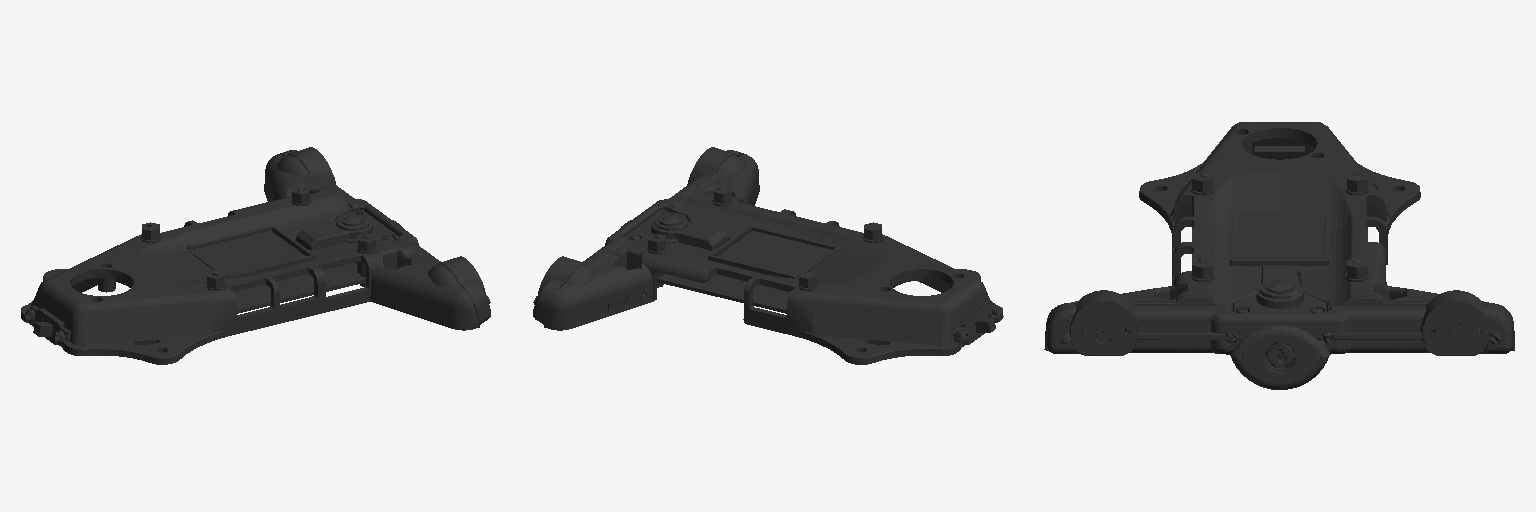
URDF robot description (sdf_pro):
<?xml version="1.0"?>
<!--
/****************************************************************************
 *   Copyright (c) 2018 [author]. All rights reserved.
 *
 * Redistribution and use in source and binary forms, with or without
 * modification, are permitted provided that the following conditions
 * are met:
 *
 * 1. Redistributions of source code must retain the above copyright
 *    notice, this list of conditions and the following disclaimer.
 * 2. Redistributions in binary form must reproduce the above copyright
 *    notice, this list of conditions and the following disclaimer in
 *    the documentation and/or other materials provided with the
 *    distribution.
 * 3. Neither the name ATLFlight nor the names of its contributors may be
 *    used to endorse or promote products derived from this software
 *    without specific prior written permission.
 *
 * NO EXPRESS OR IMPLIED LICENSES TO ANY PARTY'S PATENT RIGHTS ARE GRANTED BY THIS LICENSE.
 * THIS SOFTWARE IS PROVIDED BY THE COPYRIGHT [author]
 * "AS IS" AND ANY EXPRESS OR IMPLIED WARRANTIES, INCLUDING, BUT NOT
 * LIMITED TO, THE IMPLIED WARRANTIES OF MERCHANTABILITY AND FITNESS
 * FOR A PARTICULAR PURPOSE ARE DISCLAIMED. IN NO EVENT SHALL THE
 * COPYRIGHT [author] LIABLE FOR ANY DIRECT, INDIRECT,
 * INCIDENTAL, SPECIAL, EXEMPLARY, OR CONSEQUENTIAL DAMAGES (INCLUDING,
 * BUT NOT LIMITED TO, PROCUREMENT OF SUBSTITUTE GOODS OR SERVICES; LOSS
 * OF USE, DATA, OR PROFITS; OR BUSINESS INTERRUPTION) HOWEVER CAUSED
 * AND ON ANY THEORY OF LIABILITY, WHETHER IN CONTRACT, STRICT
 * LIABILITY, OR TORT (INCLUDING NEGLIGENCE OR OTHERWISE) ARISING IN
 * ANY WAY OUT OF THE USE OF THIS SOFTWARE, EVEN IF ADVISED OF THE
 * POSSIBILITY OF SUCH DAMAGE.
 *
 * In addition Supplemental Terms apply.  See the SUPPLEMENTAL file.
 ****************************************************************************/
-->
<robot name="sdf_pro">
  <link name="imu">
    <visual>
      <geometry>
        <mesh filename="package://qflight_descriptions/meshes/sdf_tray.stl"/>
      </geometry>
      <origin xyz="-.026 .017 -.0046" rpy="-1.57079632679 0 1.57079632679"/>
      <material name="blue">
        <color rgba="0.25 0.25 0.25 1"/>
      </material>
    </visual>
  </link>

  <joint name="imu_to_dfc" type="fixed">
    <parent link="imu"/>
    <child link="dfc"/>
    <origin xyz="-0.00011 0.017 0.00780" rpy="0 0 1.57079632679"/>
  </joint>
  <link name="dfc"/>

  <joint name="imu_to_hires" type="fixed">
    <parent link="imu"/>
    <child link="hires"/>
    <origin xyz="0.01563 0.017 -0.00293" rpy="1.343903524 0 1.57079632679"/>
  </joint>
  <link name="hires"/>

  <joint name="imu_to_left_stereo" type="fixed">
    <parent link="imu"/>
    <child link="left_stereo"/>
    <origin xyz="0.01341 -0.023 0.0022" rpy="1.343903524 0 1.57079632679"/>
  </joint>
  <link name="left_stereo"/>

  <joint name="left_to_right_stereo" type="fixed">
    <parent link="left_stereo"/>
    <child link="right_stereo"/>
    <origin xyz="0.08 0.0 0.0"/>
  </joint>
  <link name="right_stereo"/>
</robot>

--- Facts derived from the render (not from the file) ---
Views: 3 orthographic renders of the robot side by side, from view 1: azimuth 30°, elevation 25°; view 2: azimuth 150°, elevation 25°; view 3: azimuth 270°, elevation 25°.
Robot: sdf_pro — 5 links, 4 joints (4 fixed); root link imu; default pose: all joints at 0.
Links seen in each view (by area): view 1: imu; view 2: imu; view 3: imu.
Link boxes in pixels (left/top/right/bottom): imu: left=21, top=147, right=490, bottom=364; imu: left=533, top=147, right=1003, bottom=364; imu: left=1044, top=122, right=1514, bottom=389.
Size in the robot's own frame: 0.1161 by 0.107 by 0.024 metres.
1 mesh visuals loaded from 1 distinct referenced files (1 binary STL).